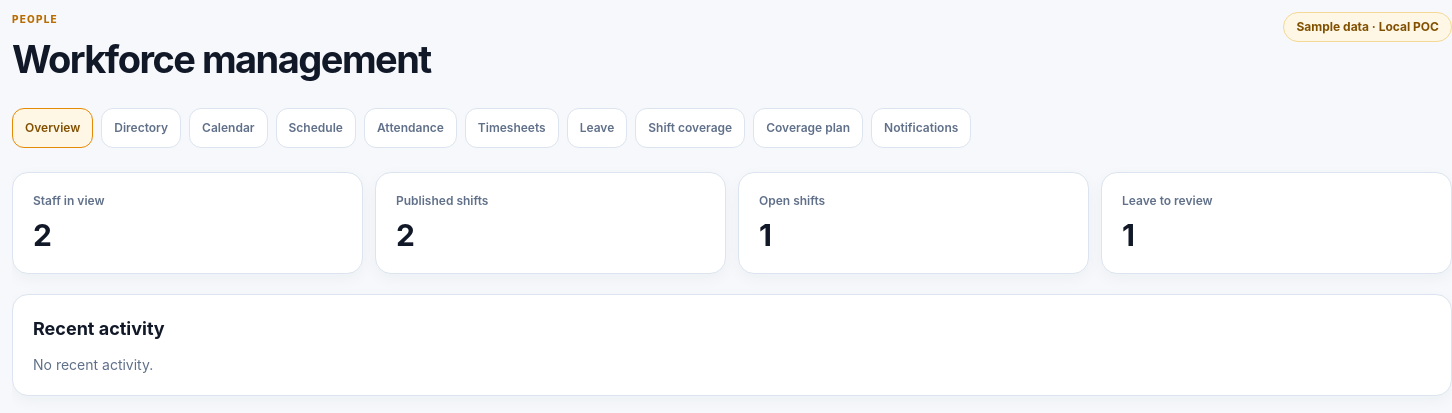
local workforce POC › keeps the manager directory to direct reports
The width and height of the screenshot is (1452, 413).
Click the button "Directory": [141, 128] box [101,108,181,148]
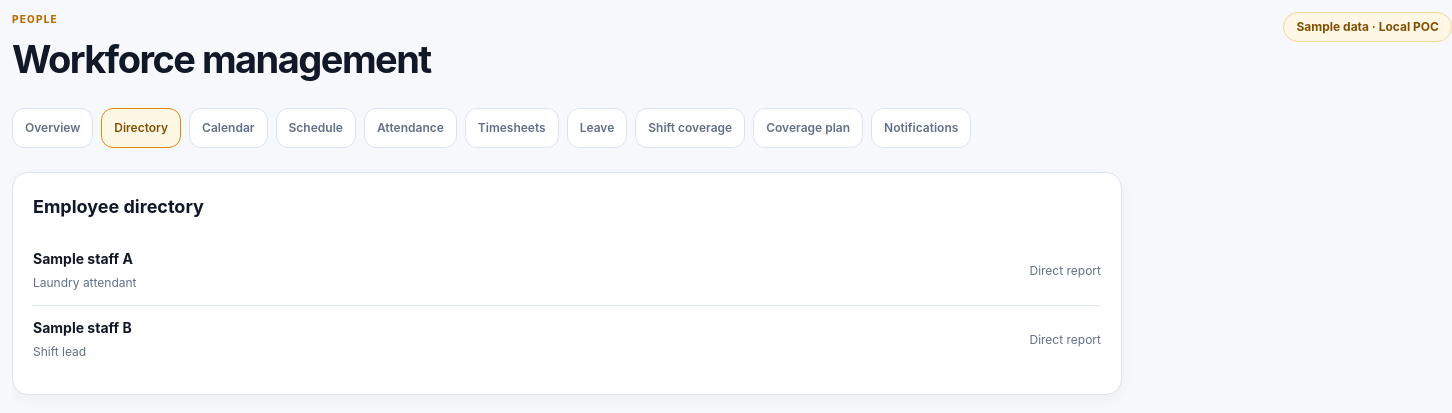
Result: the text "Sample staff A" is shown at [33,249,136,269]
Result: the text "Sample staff B" is shown at [33,318,132,338]
